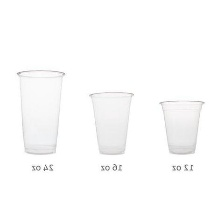glass: (11, 68, 70, 162), (86, 89, 138, 159), (152, 96, 210, 155)
